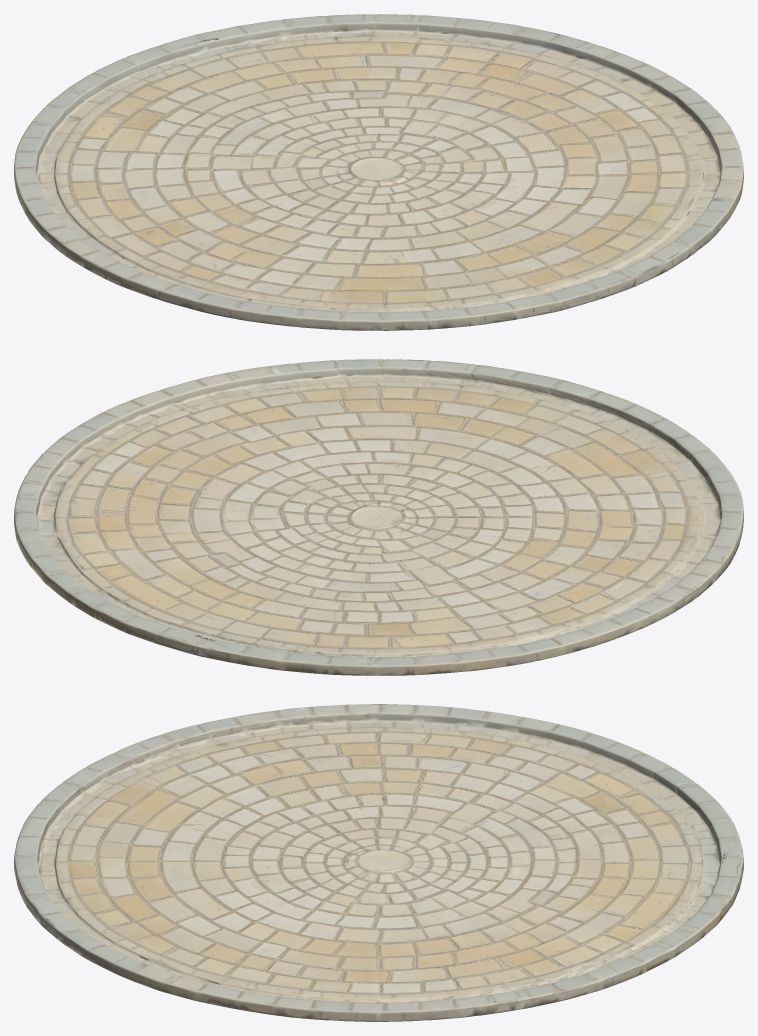
File: round-stone-road.glb
3 renders of one model, top to bottom at view 1: azimuth 30°, elevation 25°; view 2: azimuth 150°, elevation 25°; view 3: azimuth 270°, elevation 25°, orthographic.
Visible parts, largest first — view 1: node_0; view 2: node_0; view 3: node_0.
Part boxes in pixels (x1=…): node_0: x1=14, y1=14, x2=743, y2=330; node_0: x1=14, y1=359, x2=743, y2=675; node_0: x1=14, y1=704, x2=743, y2=1021.
Bounding box in the file's own units: 1.2 × 0.0188 × 1.2.
1 material, 1 textured.
